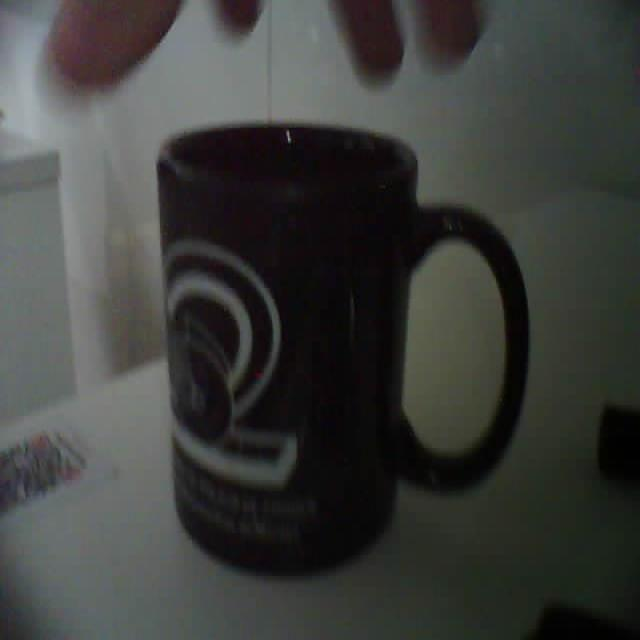caneca: (159, 123, 528, 572)
